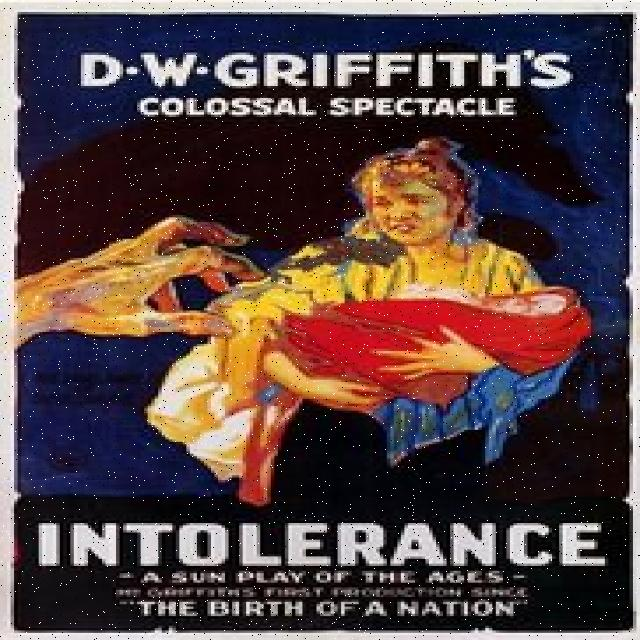movie-judul: (33, 516, 611, 573)
picture: (23, 140, 607, 508)
